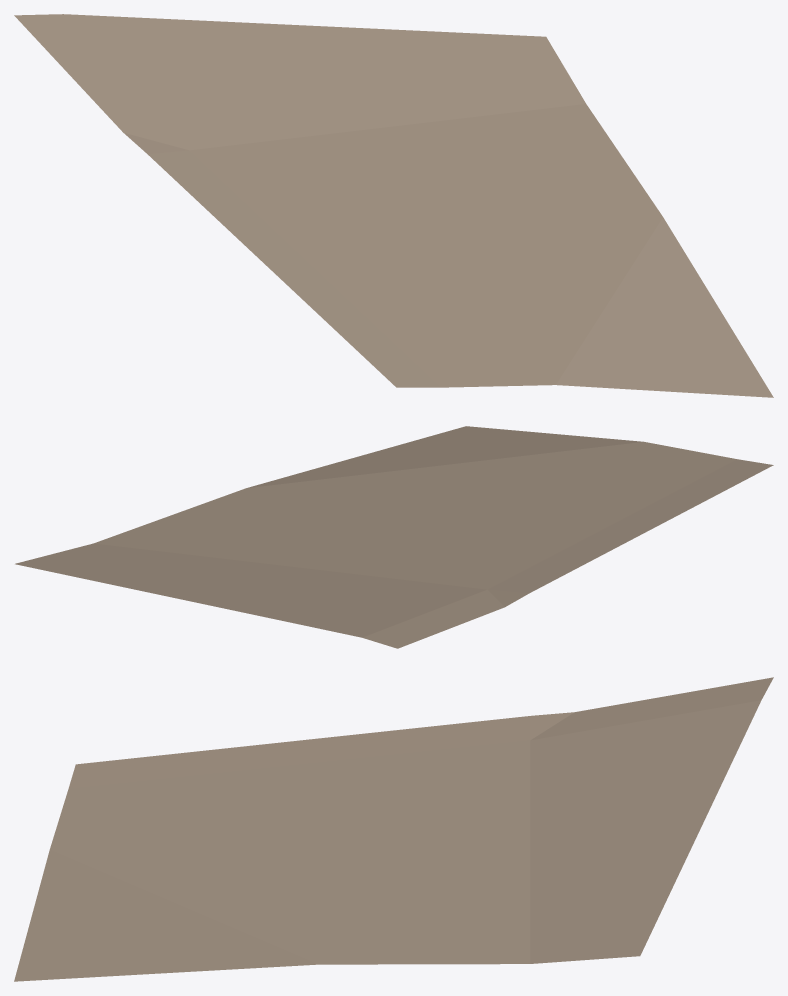
File: farm_-33_-24_soil.glb
The picture shows the model from 3 angles, top to bottom: view 1: azimuth 30°, elevation 25°; view 2: azimuth 150°, elevation 25°; view 3: azimuth 270°, elevation 25°; orthographic projection. The views are drawn at different scales.
Parts seen in each view (by area): view 1: geometry_0; view 2: geometry_0; view 3: geometry_0.
Part boxes in pixels (x1,y1,x2,y2): geometry_0: [14, 14, 773, 397]; geometry_0: [15, 426, 773, 648]; geometry_0: [14, 677, 773, 981].
Bounding box in the file's own units: 65.85 × 22.39 × 103.
